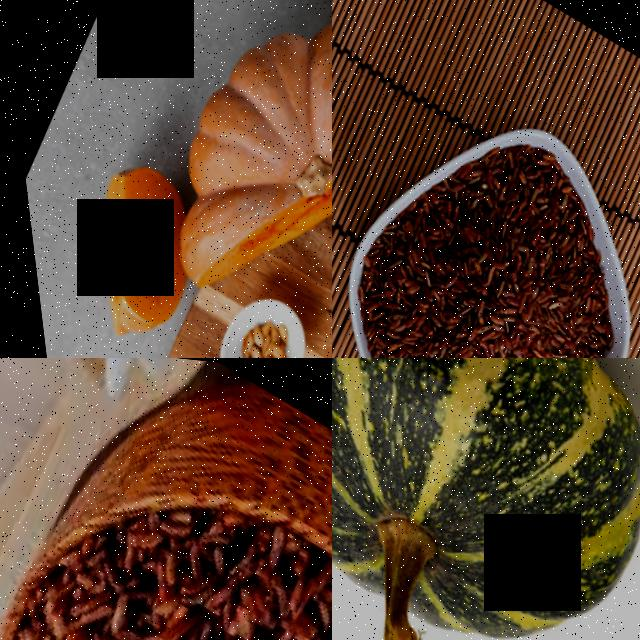pumpkin: (332, 358, 640, 640), (106, 0, 332, 358), (32, 144, 219, 358)
red rice: (332, 75, 640, 358), (0, 426, 332, 640)
